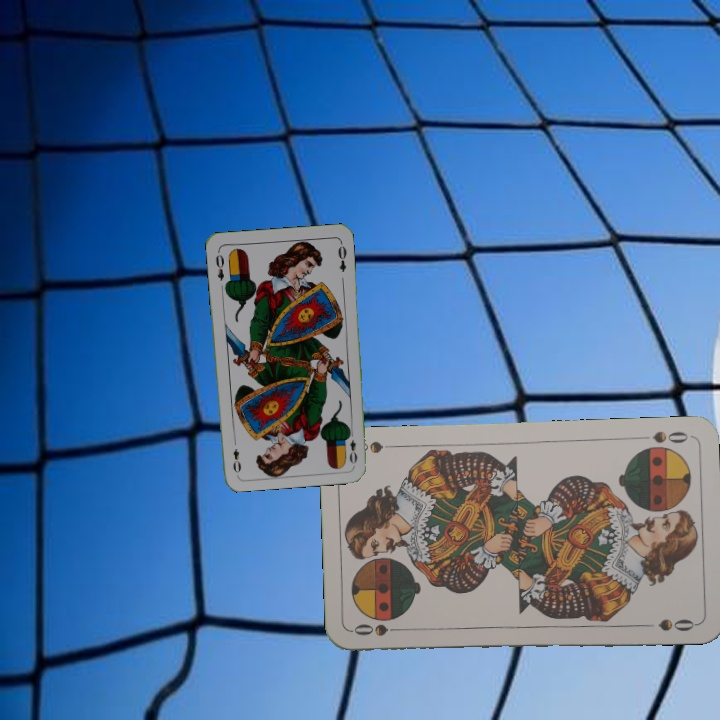EO: (344, 426, 360, 466), (211, 247, 227, 283)
SO: (349, 620, 409, 638), (648, 427, 690, 446)
